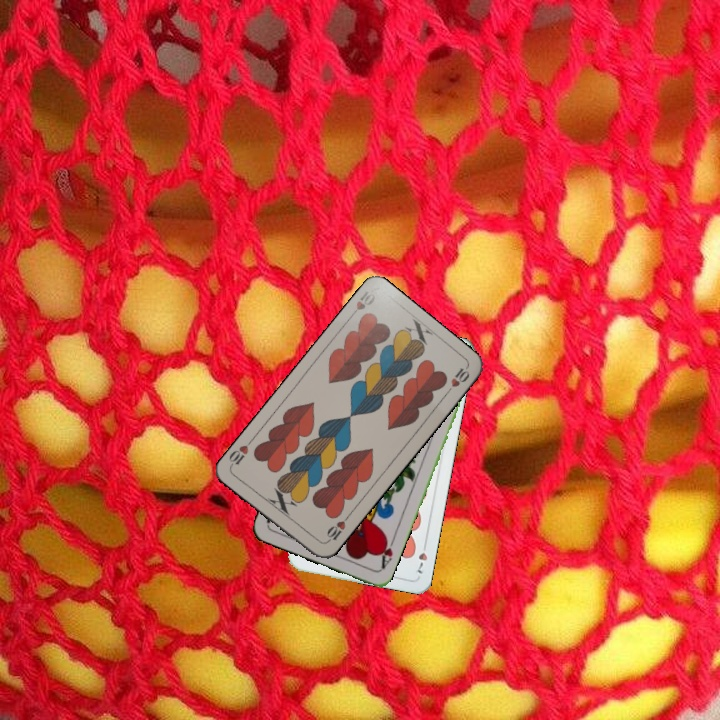H10: (345, 287, 378, 322), (322, 511, 352, 546)
H7: (413, 538, 430, 576)
HA: (375, 533, 398, 571)
